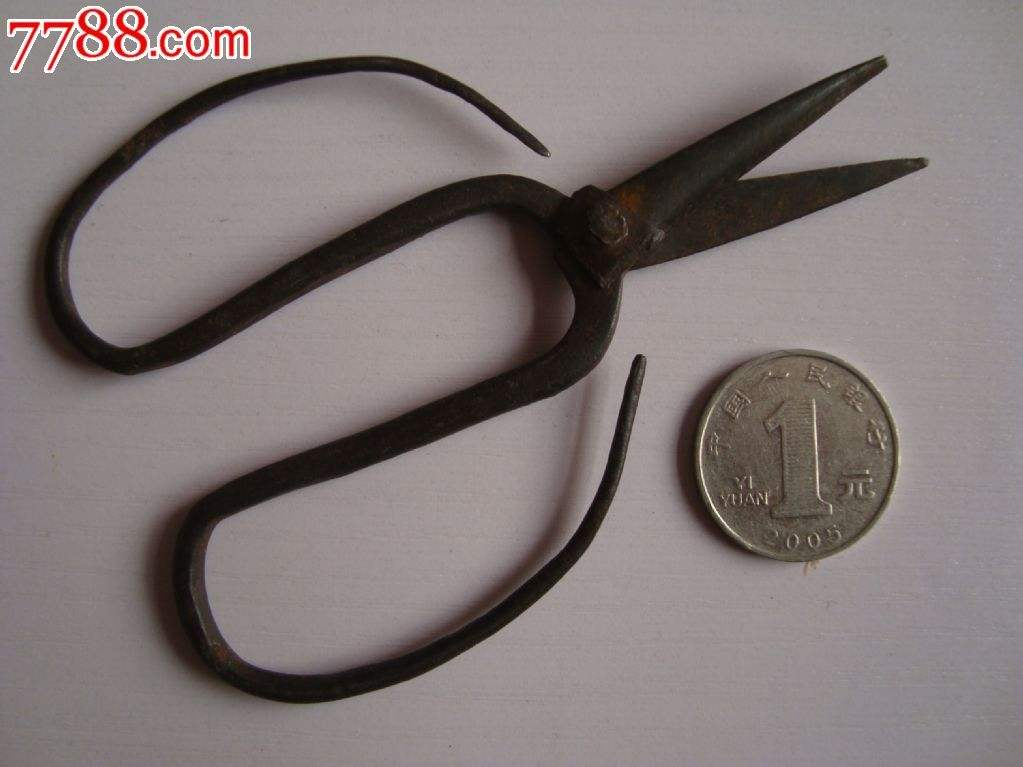scissor: (44, 54, 931, 695)
